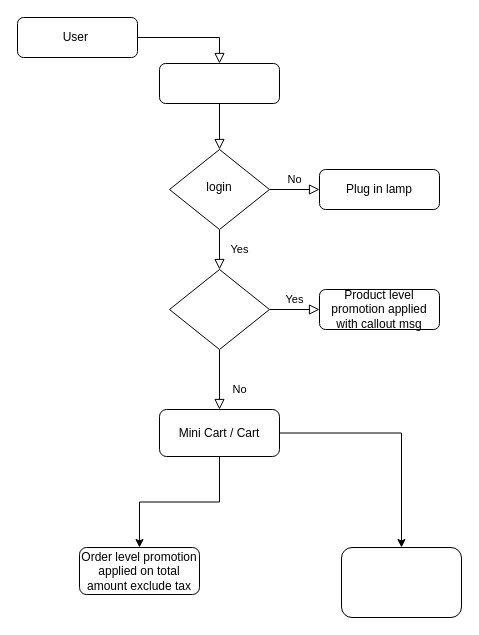
This 479x635 diagram has some shape labels left out. The shapes that lost their labels are listed below. From the top down, each one's centre as x and y in pixels, then its label:
At pixel 219 83: "Mobile / SSO".
At pixel 219 309: "PDP".
At pixel 401 582: "Shipping level promotion applied on total amount exclude tax".
